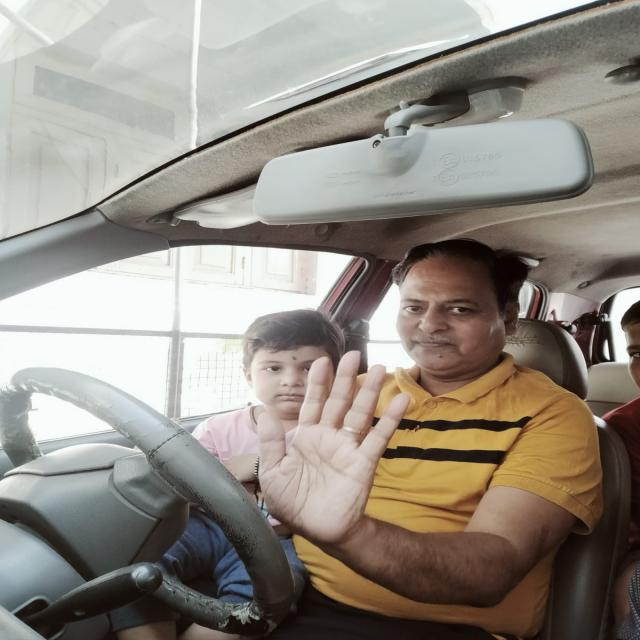child: (244, 312, 338, 418)
person: (385, 242, 526, 381)
